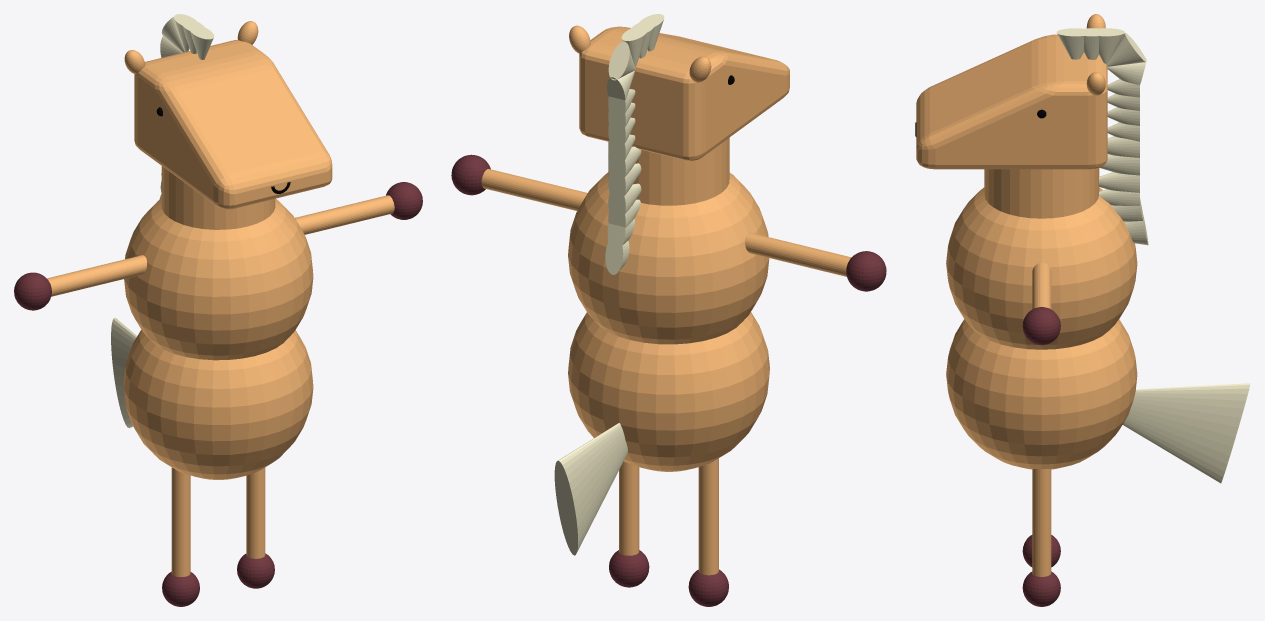
The model's file is Horse.fbx.
The picture shows the model from 3 angles, left to right: view 1: azimuth 30°, elevation 25°; view 2: azimuth 150°, elevation 25°; view 3: azimuth 270°, elevation 25°; orthographic projection. The views are drawn at different scales.
Visible parts, largest first — view 1: Cubo, Esfera.001, Esfera, Cilindro, Cilindro.003, Cilindro.004, Cilindro.002, Cilindro.001, Cono, Esfera.005, Esfera.002, Esfera.003 (+2 smaller); view 2: Esfera.001, Esfera, Cubo, Cono, Cilindro, Cilindro.003, Cilindro.004, Cilindro.002, Cilindro.001, Esfera.005, Esfera.002, Esfera.003 (+5 smaller); view 3: Esfera.001, Esfera, Cubo, Cono, Cilindro, Cilindro.001, Esfera.004, Esfera.002, Cilindro.002, Cono.004, Cono.001, Cono.012 (+10 smaller).
Part boxes in pixels (left/top/right/bottom): Cubo: left=134, top=40, right=332, bottom=209; Esfera.001: left=124, top=198, right=313, bottom=360; Esfera: left=123, top=330, right=313, bottom=479; Cilindro: left=161, top=166, right=275, bottom=229; Cilindro.003: left=171, top=467, right=190, bottom=576; Cilindro.004: left=47, top=255, right=146, bottom=296; Cilindro.002: left=295, top=195, right=394, bottom=234; Cilindro.001: left=246, top=467, right=265, bottom=558; Cono: left=111, top=317, right=137, bottom=428; Esfera.005: left=14, top=272, right=51, bottom=310; Esfera.002: left=237, top=553, right=274, bottom=588; Esfera.003: left=162, top=571, right=199, bottom=606; Esfera.001: left=568, top=172, right=769, bottom=344; Esfera: left=568, top=312, right=769, bottom=471; Cubo: left=579, top=26, right=789, bottom=160; Cono: left=554, top=423, right=627, bottom=555; Cilindro: left=608, top=137, right=729, bottom=205; Cilindro.003: left=698, top=458, right=718, bottom=575; Cilindro.004: left=745, top=232, right=851, bottom=276; Cilindro.002: left=481, top=169, right=587, bottom=210; Cilindro.001: left=619, top=461, right=639, bottom=555; Esfera.005: left=846, top=251, right=886, bottom=291; Esfera.002: left=609, top=550, right=649, bottom=587; Esfera.003: left=688, top=569, right=728, bottom=606; Esfera.001: left=946, top=187, right=1137, bottom=349; Esfera: left=946, top=319, right=1137, bottom=469; Cubo: left=916, top=34, right=1107, bottom=169; Cono: left=1122, top=383, right=1250, bottom=483; Cilindro: left=984, top=168, right=1099, bottom=218; Cilindro.001: left=1032, top=469, right=1051, bottom=576; Esfera.004: left=1022, top=307, right=1060, bottom=345; Esfera.002: left=1022, top=571, right=1060, bottom=606; Cilindro.002: left=1032, top=263, right=1051, bottom=309; Cono.004: left=1106, top=32, right=1146, bottom=66; Cono.001: left=1056, top=28, right=1094, bottom=59; Cono.012: left=1099, top=172, right=1139, bottom=192.
Size of the model in its own units: 490 by 640 by 350.
